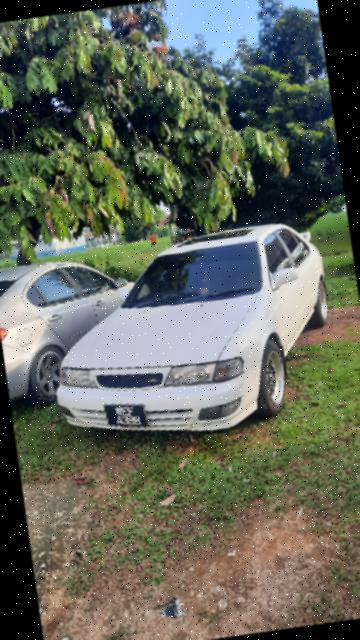License_Plate: (105, 392, 157, 440)
car: (37, 214, 349, 451), (1, 244, 157, 406)
